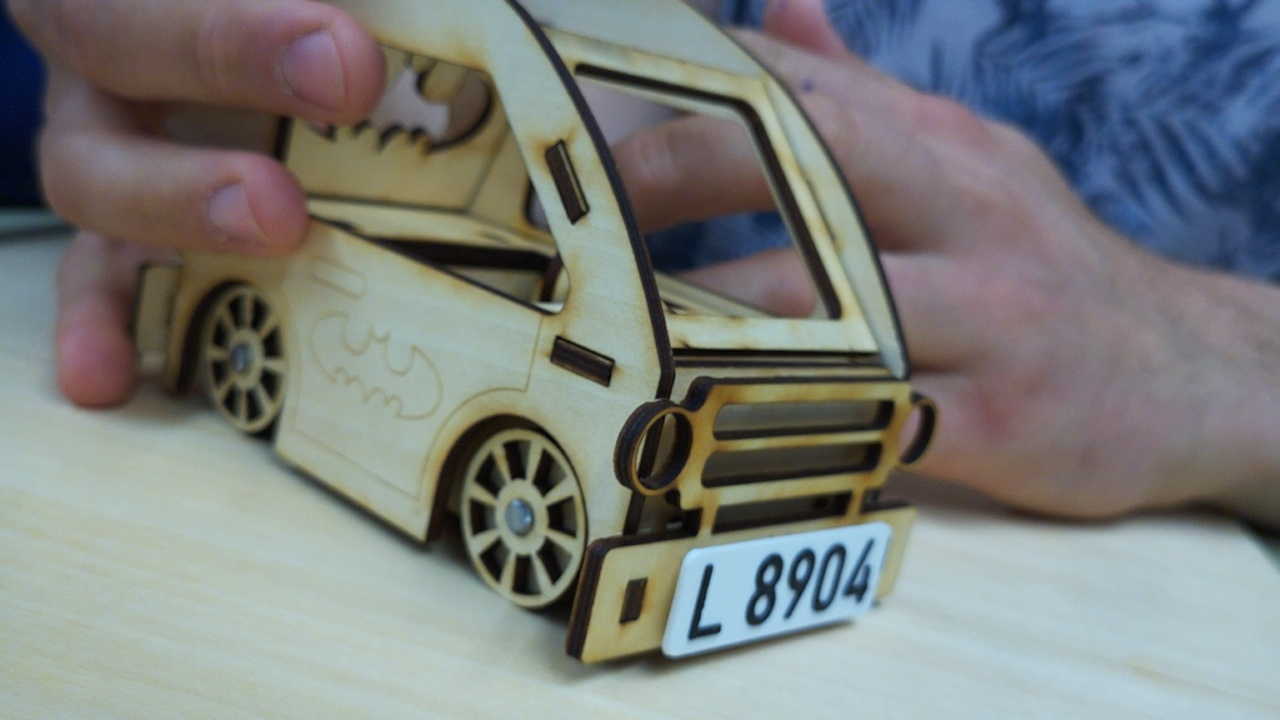license_plate: (659, 518, 894, 660)
